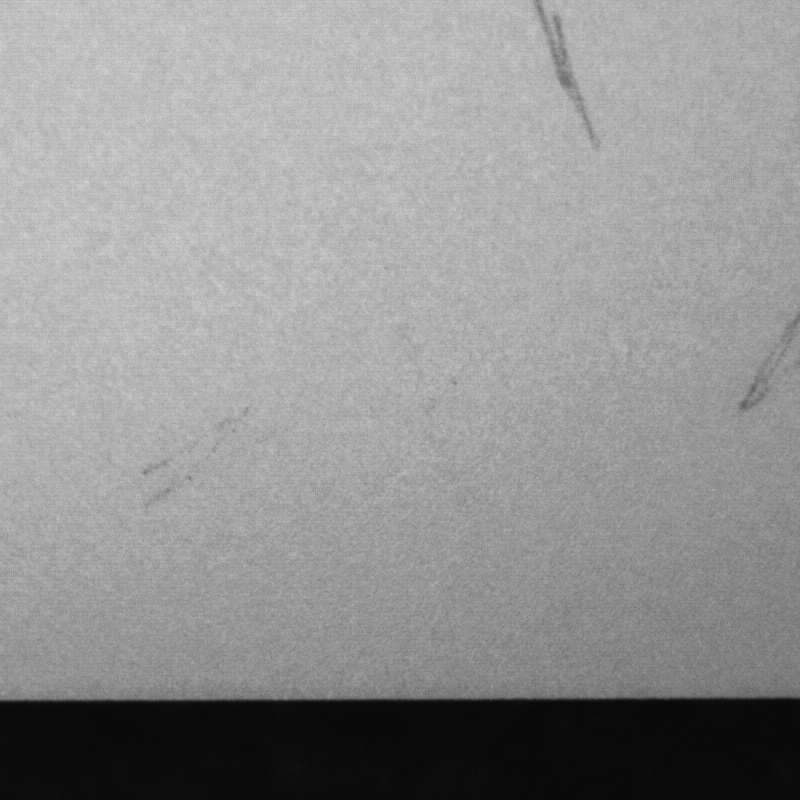defect: (131, 406, 252, 519), (535, 3, 604, 155), (739, 317, 798, 413)
